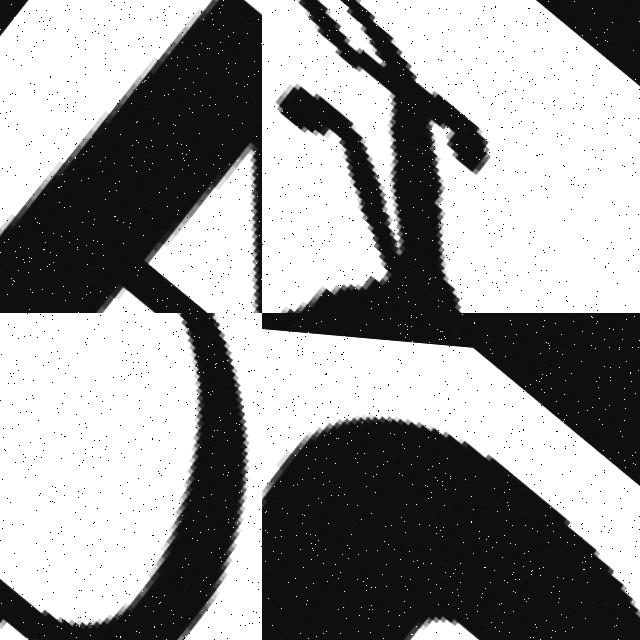2: (262, 313, 640, 640)
A: (0, 0, 262, 313)
K: (262, 4, 637, 313)
Q: (0, 313, 262, 640)
